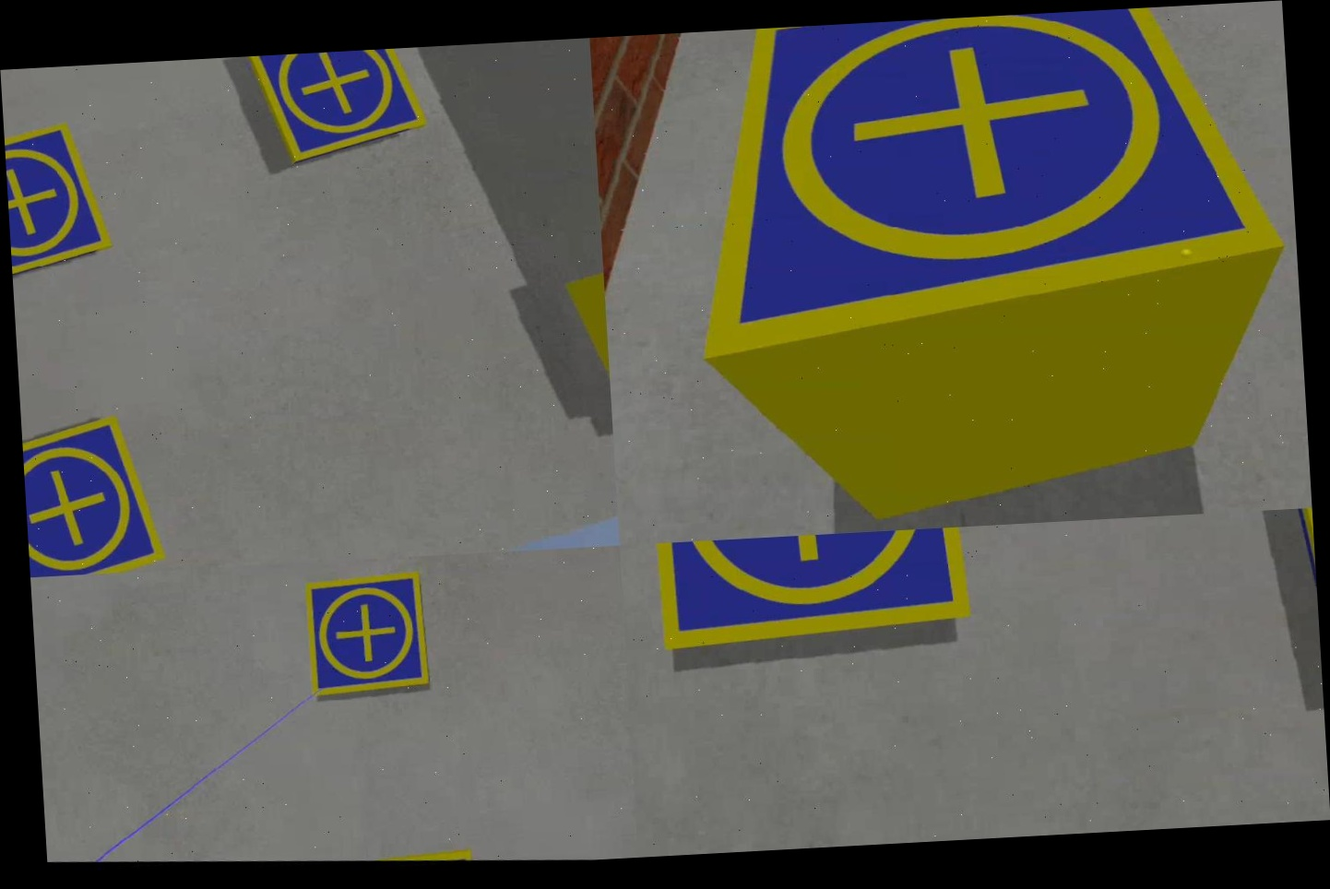small_base: (679, 0, 1302, 392), (635, 526, 992, 671), (20, 402, 173, 577), (239, 46, 439, 174), (3, 112, 121, 291), (297, 564, 438, 704)
